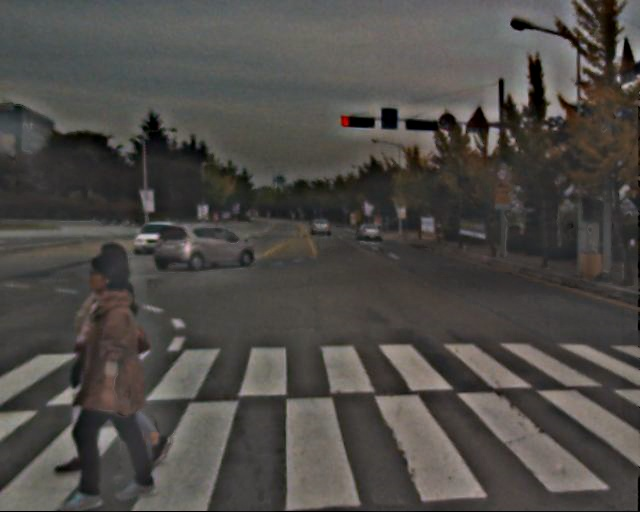person: (66, 261, 175, 497), (70, 241, 172, 458)
